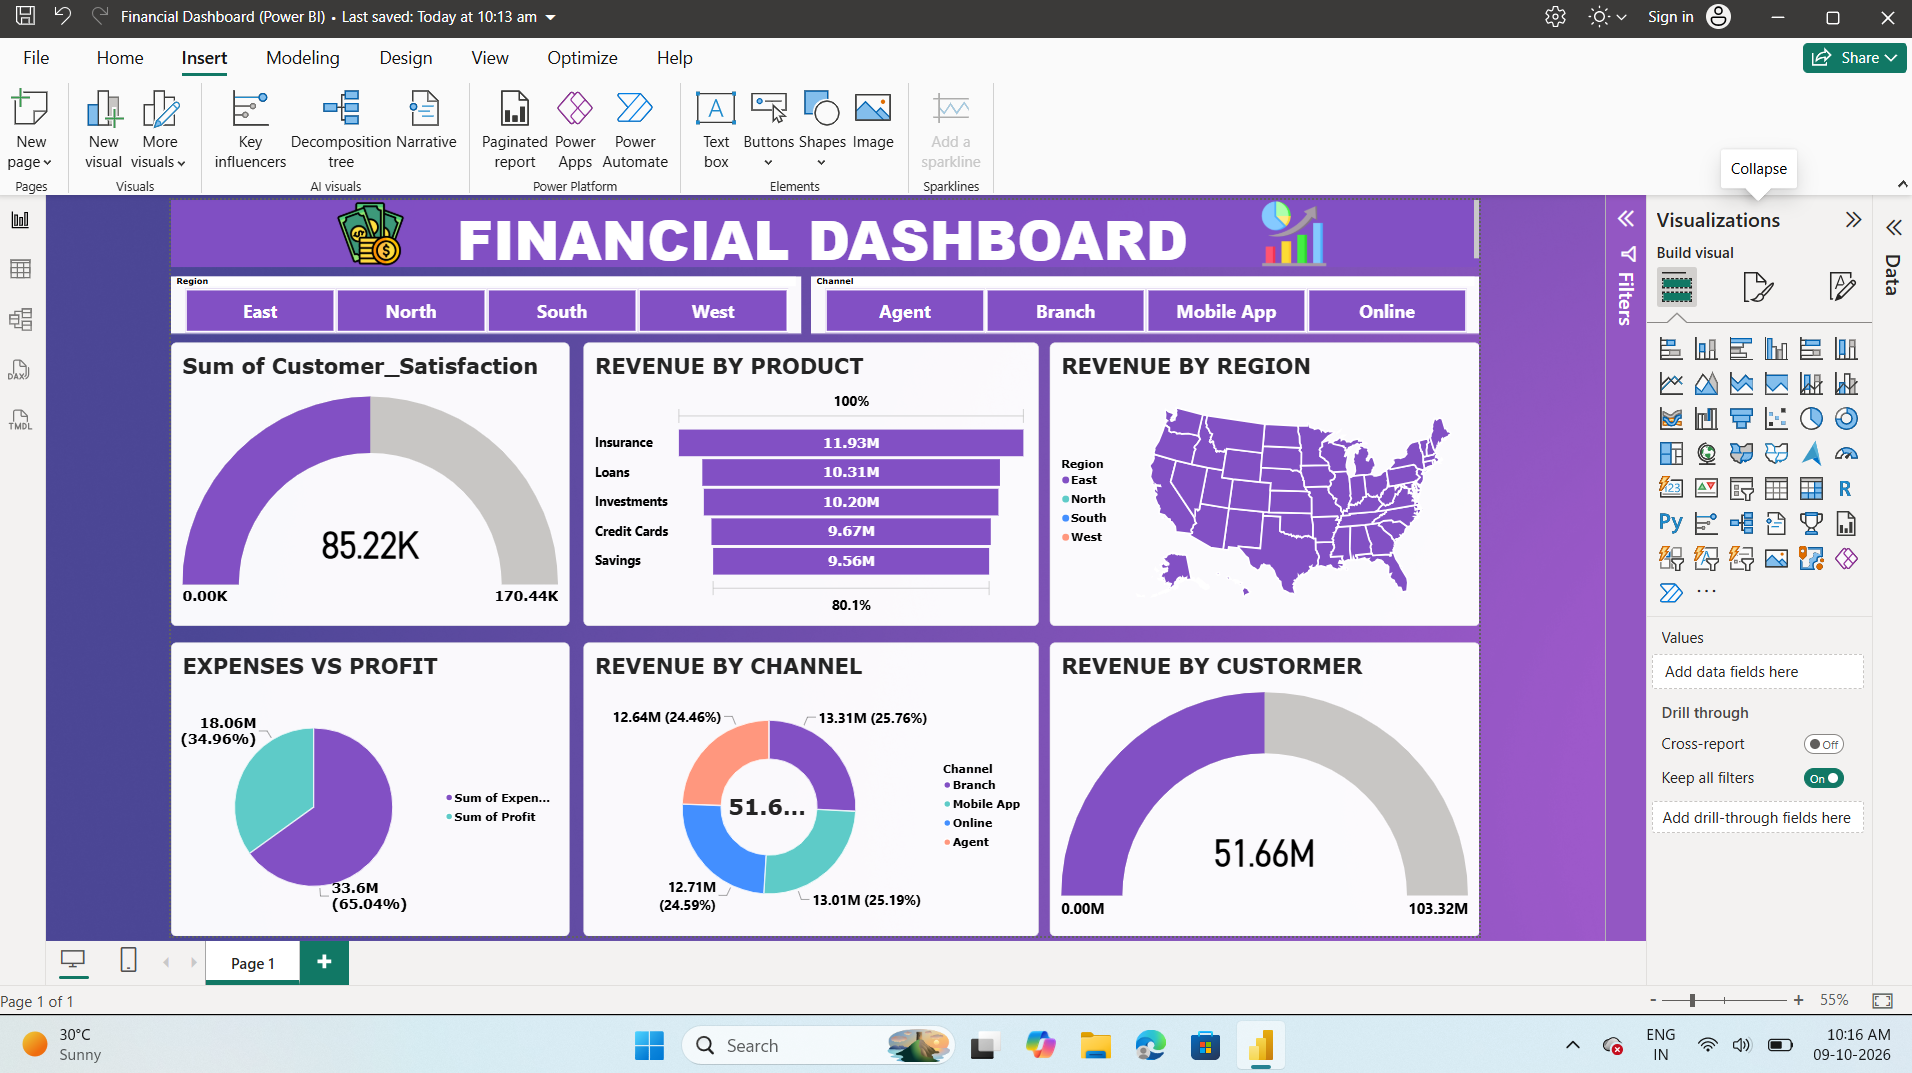

What the dashboard file says about the page in this screenshot:
{"tool":"powerbi","page":{"name":"Page 1","canvas":[1920,1080],"ordinal":0},"visuals":[{"type":"gauge","title":"Sum of Customer_Satisfaction ","fields":{"Y":["Sum(0_financial_dashboard_dataset.Customer_Satisfaction)"]},"box":[0,209.1,585.1,416.4],"z":0},{"type":"donutChart","title":"REVENUE BY CHANNEL","fields":{"Category":["0_financial_dashboard_dataset.Channel"],"Y":["Sum(0_financial_dashboard_dataset.Revenue)"]},"box":[605.3,649.3,667.7,431],"z":1000},{"type":"shapeMap","title":"REVENUE BY REGION","fields":{"Series":["0_financial_dashboard_dataset.Region"],"Value":["Sum(0_financial_dashboard_dataset.Revenue)"]},"box":[1289.5,209.1,631,416.4],"z":2000},{"type":"funnel","title":"REVENUE BY PRODUCT ","fields":{"Category":["0_financial_dashboard_dataset.Product"],"Y":["Sum(0_financial_dashboard_dataset.Revenue)"]},"box":[605.3,209.1,667.7,416.4],"z":3000},{"type":"gauge","title":" REVENUE BY CUSTORMER","fields":{"Y":["Sum(0_financial_dashboard_dataset.Revenue)"]},"box":[1289.5,649.3,631,431],"z":4000},{"type":"textbox","box":[0,0,1920.4,98.2],"z":5000},{"type":"pieChart","title":"EXPENSES VS PROFIT","fields":{"Y":["Sum(0_financial_dashboard_dataset.Expenses)","Sum(0_financial_dashboard_dataset.Profit)"]},"box":[0,649.3,585.1,431],"z":6000},{"type":"image","box":[1509.6,0,277,99],"z":7000},{"type":"slicer","fields":{"Values":["0_financial_dashboard_dataset.Region"]},"box":[0,117.4,924.5,84.4],"z":8000},{"type":"slicer","fields":{"Values":["0_financial_dashboard_dataset.Channel"]},"box":[939.1,117.8,981.3,84.4],"z":9000},{"type":"image","box":[194.4,0,196.3,99],"z":10000}]}

Visuals, with their boxes on the page's 1920x1080 design canvas (x1, y1, x2, y2). These are canvas units, not pixel positions in the 1912x1073 screenshot, which may show the page scaled, cropped or inside an application window:
"Sum of Customer_Satisfaction " gauge: (left=0, top=209, right=585, bottom=626)
"REVENUE BY CHANNEL" donutChart: (left=605, top=649, right=1273, bottom=1080)
"REVENUE BY REGION" shapeMap: (left=1290, top=209, right=1920, bottom=626)
"REVENUE BY PRODUCT " funnel: (left=605, top=209, right=1273, bottom=626)
" REVENUE BY CUSTORMER" gauge: (left=1290, top=649, right=1920, bottom=1080)
textbox: (left=0, top=0, right=1920, bottom=98)
"EXPENSES VS PROFIT" pieChart: (left=0, top=649, right=585, bottom=1080)
image: (left=1510, top=0, right=1787, bottom=99)
slicer - 0_financial_dashboard_dataset.Region: (left=0, top=117, right=924, bottom=202)
slicer - 0_financial_dashboard_dataset.Channel: (left=939, top=118, right=1920, bottom=202)
image: (left=194, top=0, right=391, bottom=99)
